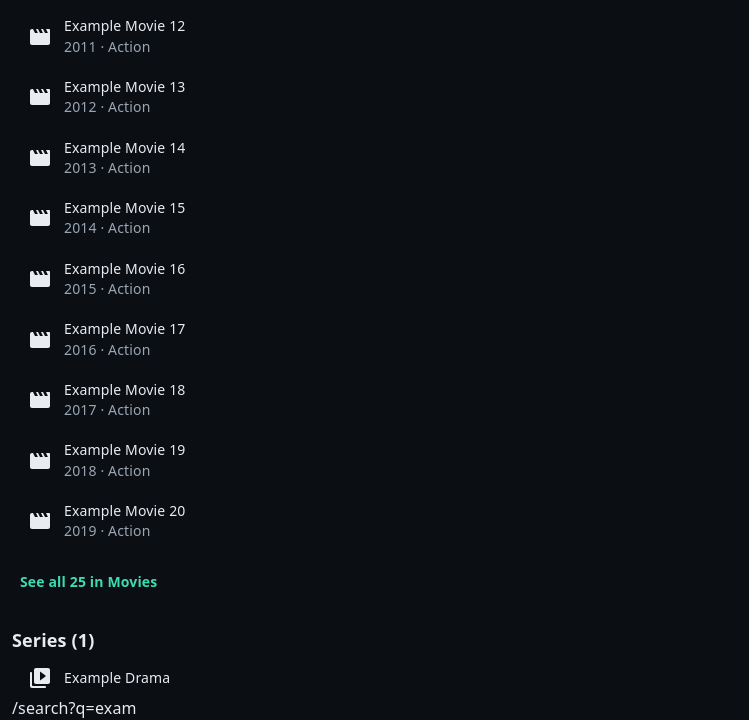
it: views and navigation (review) › a "see all" view never shows the grouped results while it loads
This screenshot has width=749, height=720.
(page scrolled)
Click the link "See all 25 in Movies" at {"x": 89, "y": 581}, box [20,572,157,590]
(page scrolled)
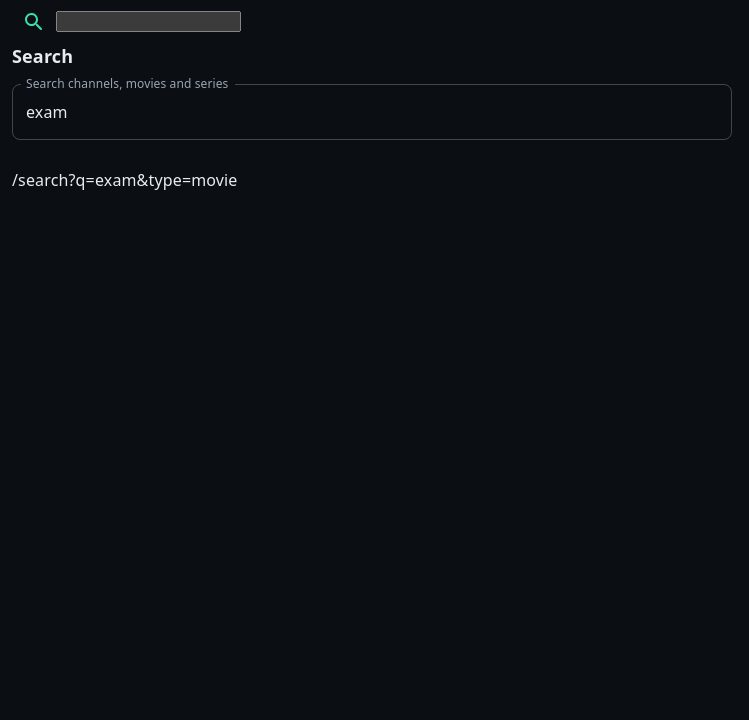
Now the text with test id "location" reads "/search?q=exam&type=movie", box [12,169,238,191]
